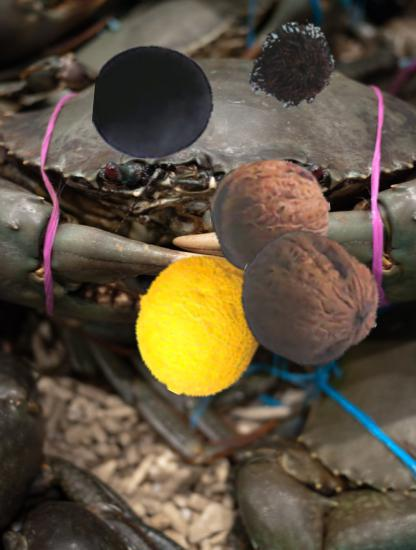Cantaloupe: (125, 251, 270, 396)
Grape: (94, 43, 215, 164)
Rambutan: (245, 21, 338, 114)
Walnut: (237, 228, 382, 373), (210, 157, 331, 278)
